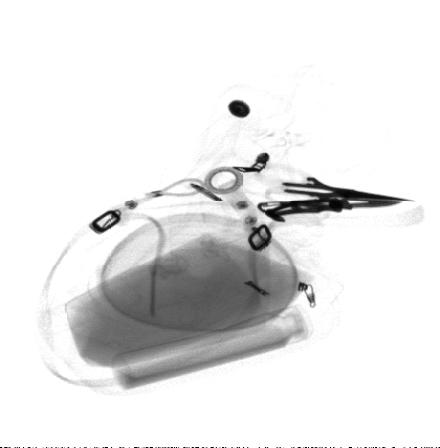Knife: (256, 197, 406, 216)
Scissors: (249, 164, 415, 207)
